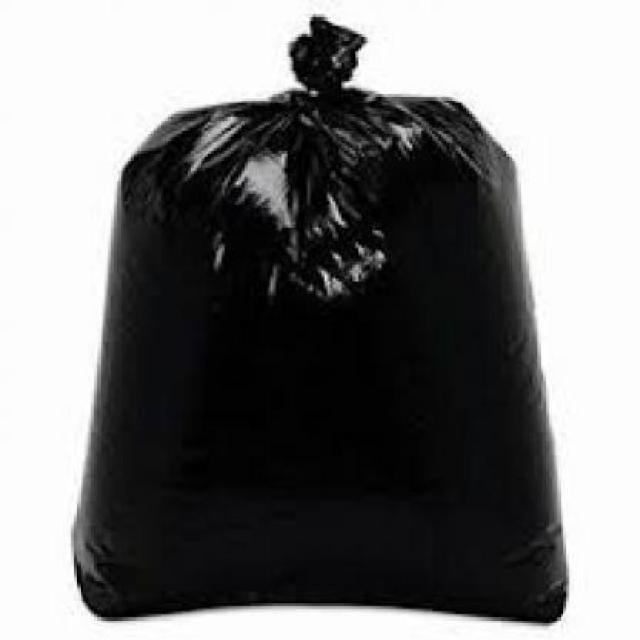garbage: (54, 0, 608, 637)
